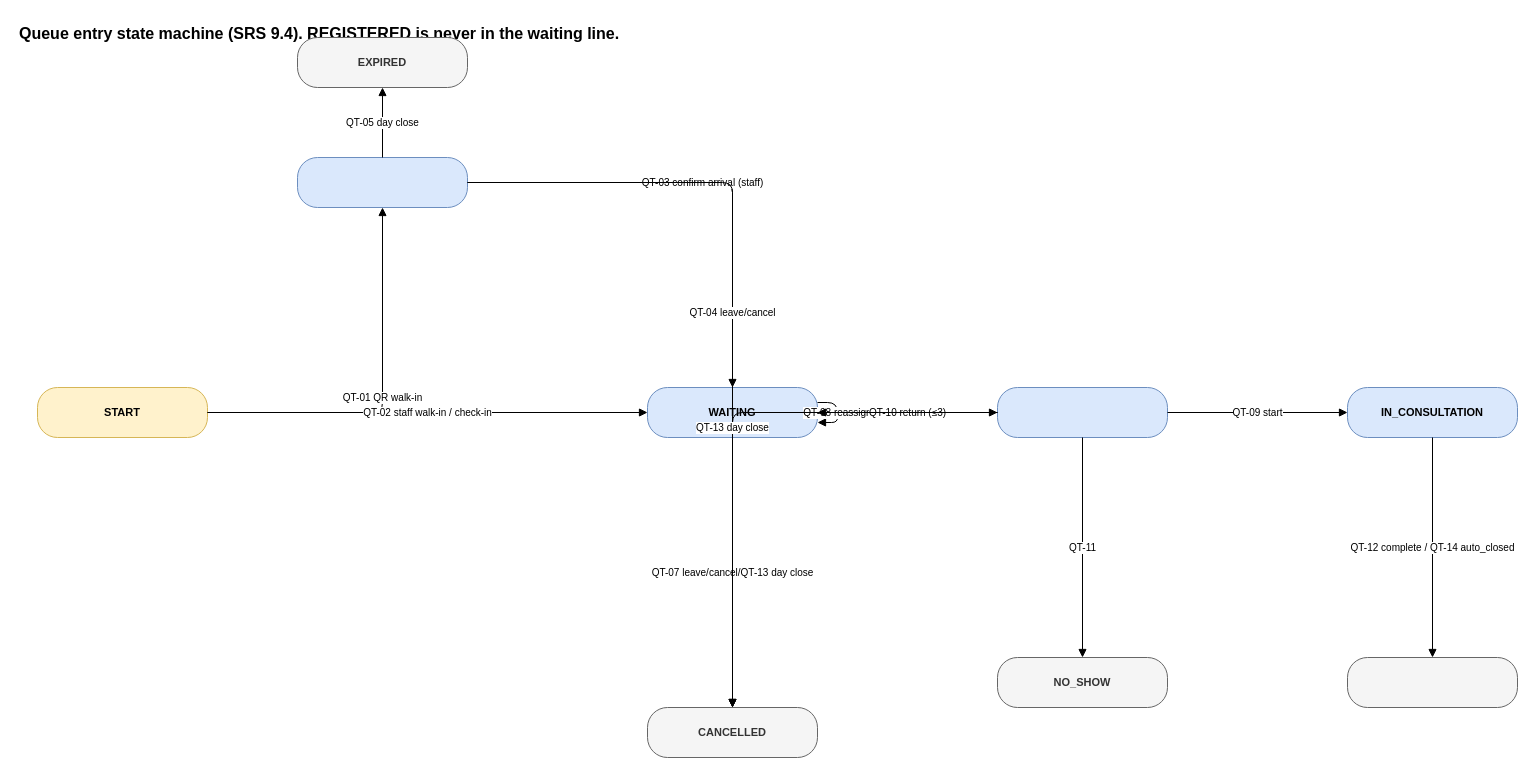
This 1535x775 diagram has some shape labels left out. Each missing label, with the centre of its shape:
"CALLED" goes at point (1082, 412).
"COMPLETED" goes at point (1432, 682).
"REGISTERED" goes at point (382, 182).
